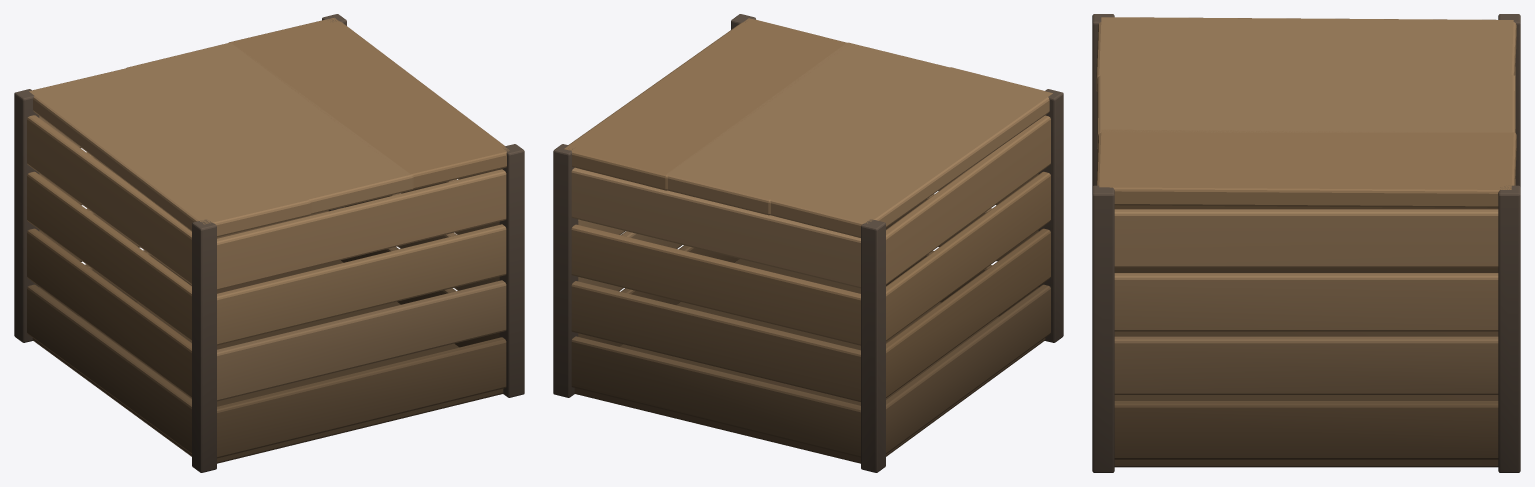
File: crate.glb
The picture shows the model from 3 angles, left to right: view 1: azimuth 30°, elevation 25°; view 2: azimuth 150°, elevation 25°; view 3: azimuth 270°, elevation 25°; orthographic projection. The views are drawn at different scales.
Parts seen in each view (by area): view 1: lid_0, lid_2, lid_1, plank_front_0, plank_front_2, plank_front_3, plank_front_1, plank_left_0, plank_left_1, plank_left_2, plank_left_3, bracket_-0.41_-0.41 (+4 smaller); view 2: lid_0, lid_1, lid_2, plank_back_0, plank_back_2, plank_back_1, plank_back_3, plank_left_0, plank_left_1, plank_left_2, plank_left_3, bracket_-0.41_0.41 (+5 smaller); view 3: lid_2, lid_1, lid_0, plank_right_0, plank_right_2, plank_right_3, plank_right_1, base, bracket_0.41_-0.41, bracket_0.41_0.41, plank_left_0, plank_left_1 (+2 smaller).
Part boxes in pixels (bbox=[...]): lid_0: bbox=[29, 67, 311, 237]; lid_2: bbox=[228, 17, 509, 189]; lid_1: bbox=[126, 42, 413, 214]; plank_front_0: bbox=[217, 337, 506, 458]; plank_front_2: bbox=[217, 224, 506, 345]; plank_front_3: bbox=[217, 169, 506, 290]; plank_front_1: bbox=[217, 280, 506, 401]; plank_left_0: bbox=[27, 284, 191, 453]; plank_left_1: bbox=[27, 228, 191, 397]; plank_left_2: bbox=[27, 171, 191, 341]; plank_left_3: bbox=[27, 115, 191, 284]; bracket_-0.41_-0.41: bbox=[192, 219, 216, 472]; lid_0: bbox=[765, 67, 1052, 237]; lid_1: bbox=[666, 42, 950, 215]; lid_2: bbox=[564, 18, 848, 190]; plank_back_0: bbox=[571, 336, 860, 457]; plank_back_2: bbox=[571, 224, 860, 345]; plank_back_1: bbox=[571, 281, 860, 401]; plank_back_3: bbox=[571, 167, 860, 288]; plank_left_0: bbox=[886, 284, 1050, 453]; plank_left_1: bbox=[886, 228, 1050, 397]; plank_left_2: bbox=[886, 171, 1050, 341]; plank_left_3: bbox=[886, 115, 1050, 284]; bracket_-0.41_0.41: bbox=[861, 219, 885, 472]; lid_2: bbox=[1096, 129, 1516, 207]; lid_1: bbox=[1097, 74, 1515, 148]; lid_0: bbox=[1096, 17, 1516, 91]; plank_right_0: bbox=[1114, 401, 1498, 459]; plank_right_2: bbox=[1114, 273, 1498, 331]; plank_right_3: bbox=[1114, 209, 1498, 267]; plank_right_1: bbox=[1114, 336, 1498, 394]; base: bbox=[1114, 331, 1498, 467]; bracket_0.41_-0.41: bbox=[1092, 185, 1114, 472]; bracket_0.41_0.41: bbox=[1498, 185, 1520, 472]; plank_left_0: bbox=[1114, 267, 1498, 272]; plank_left_1: bbox=[1114, 205, 1498, 209].
Size of the model in its own units: 0.87 by 0.627 by 0.87.
